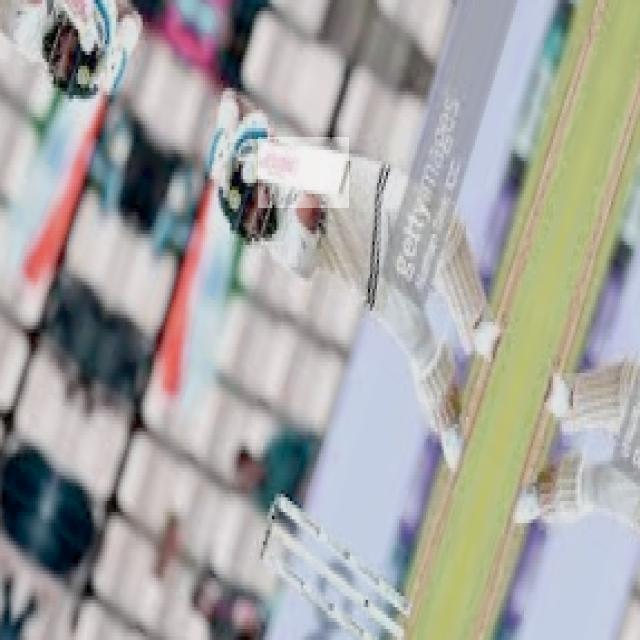bat: (256, 136, 347, 209)
toe: (327, 168, 353, 203)
